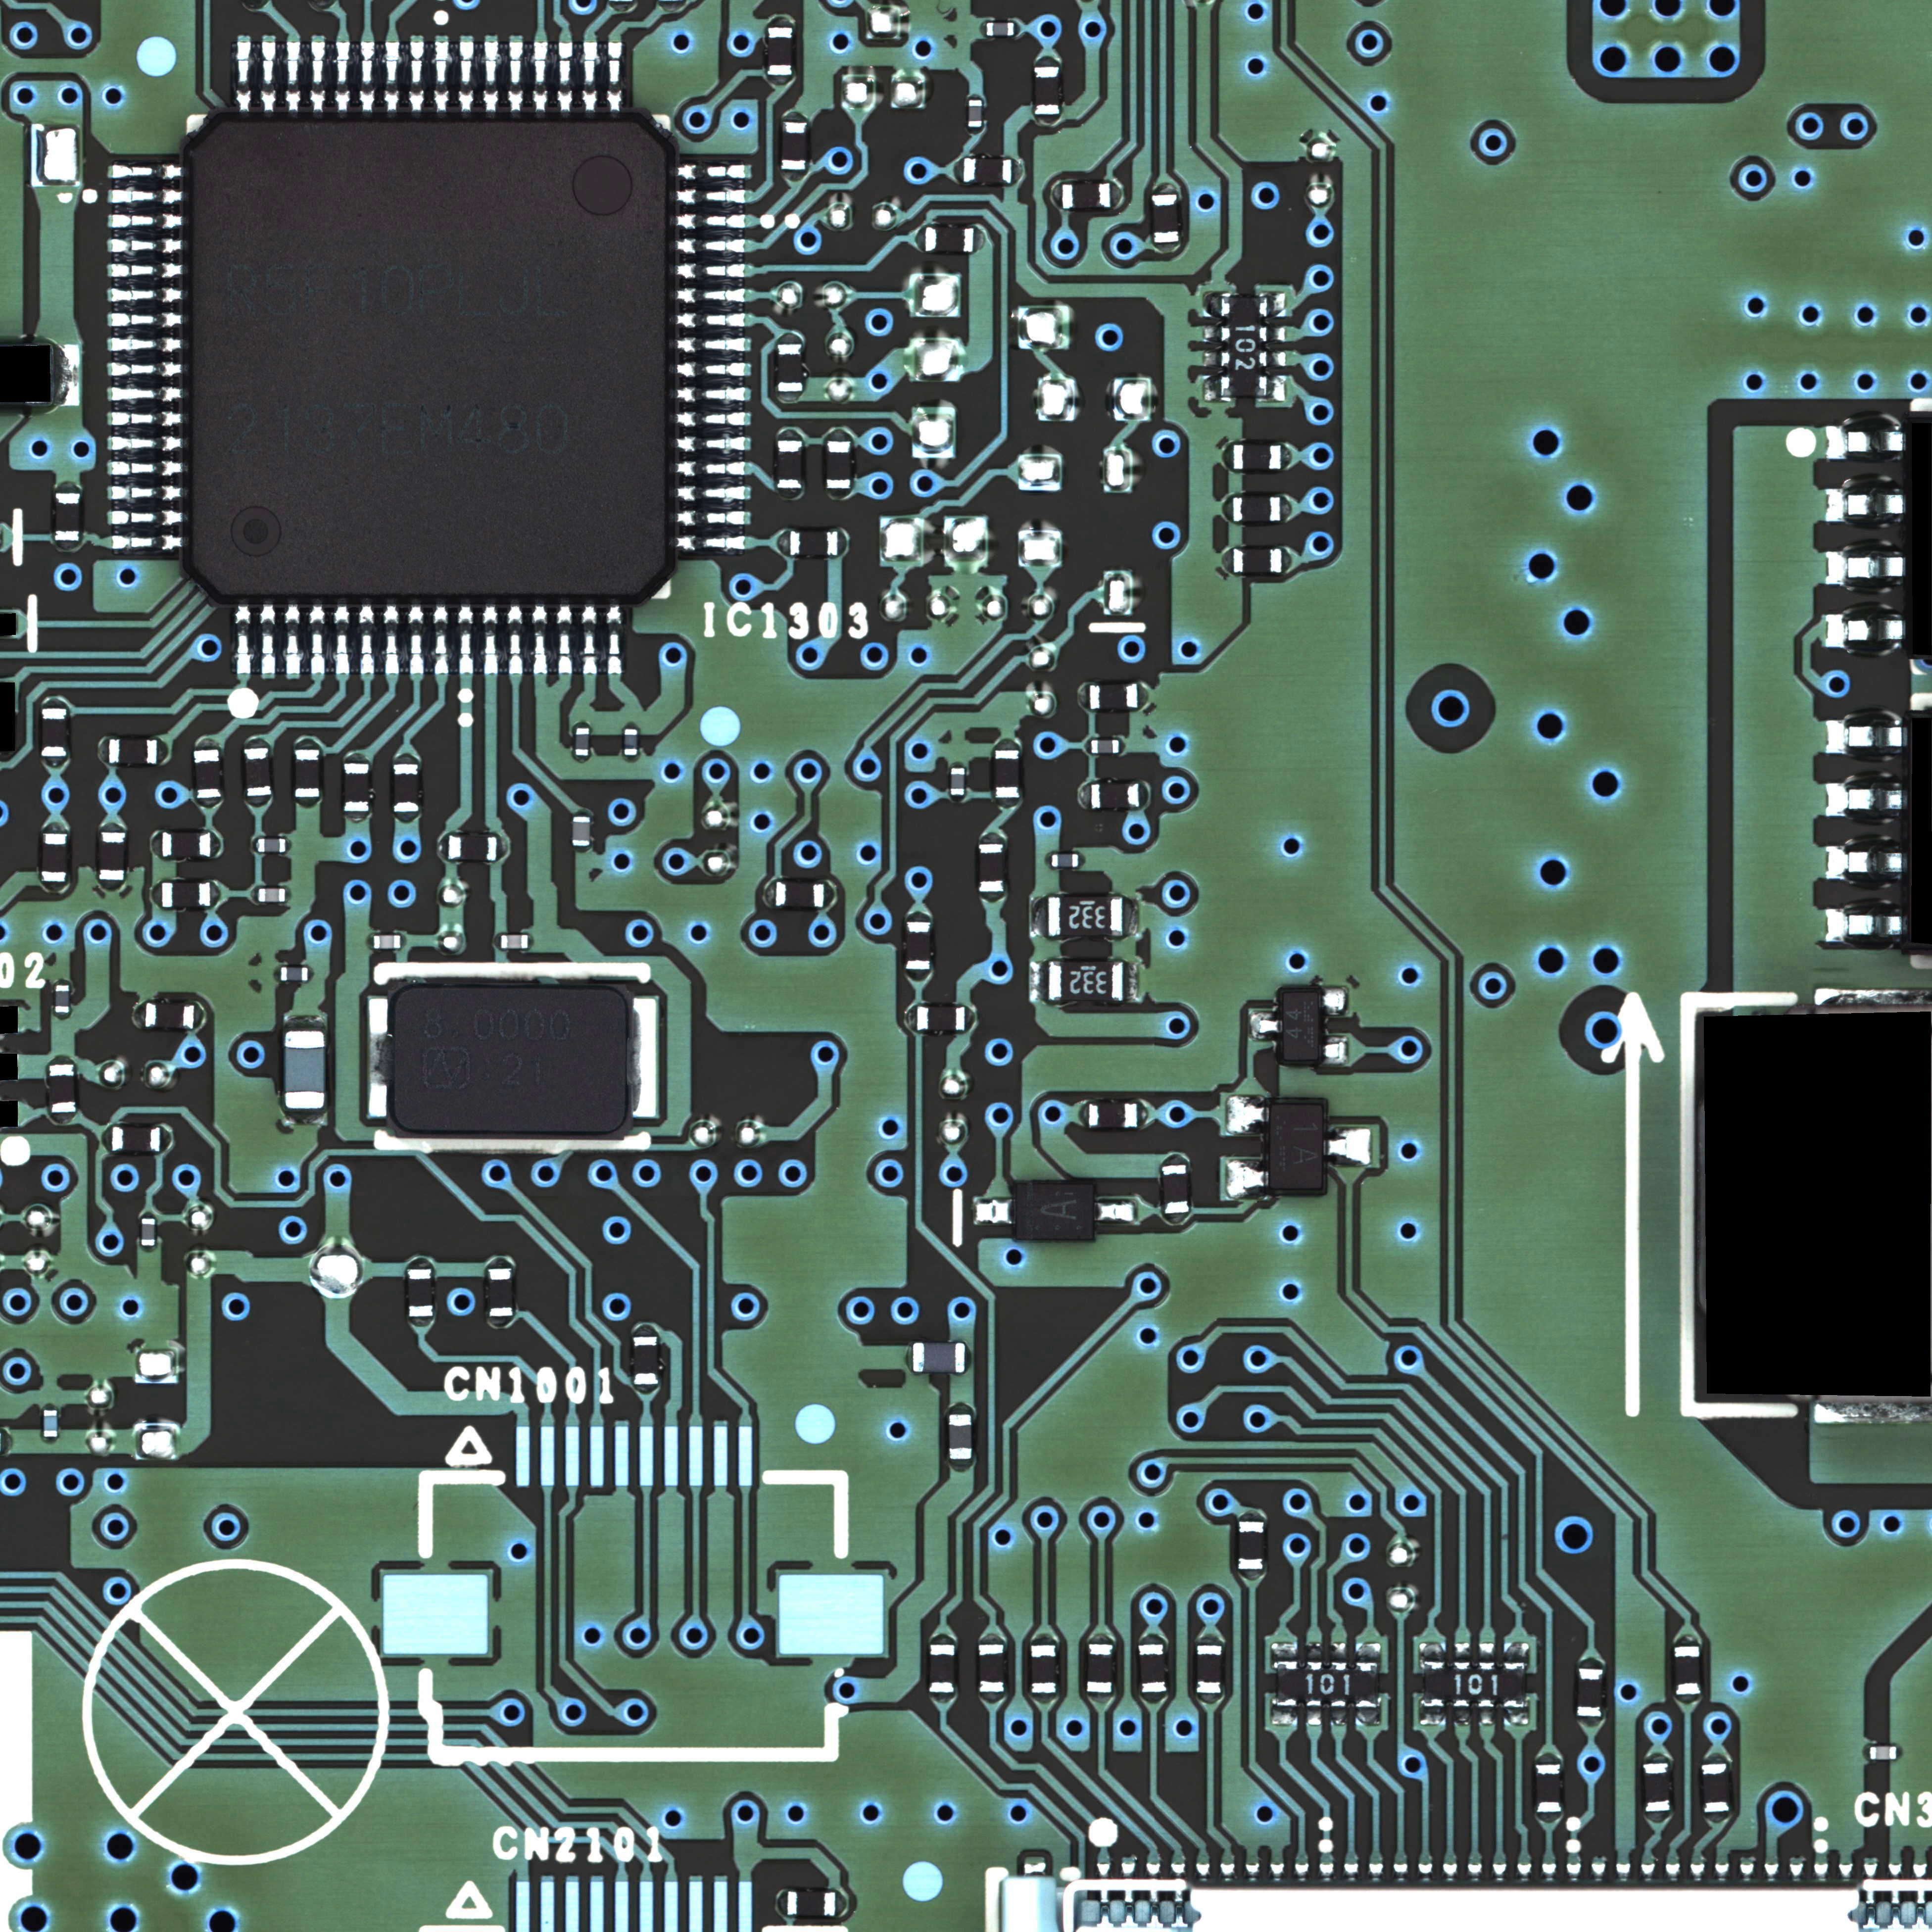Package: (193, 120, 671, 596), (387, 984, 633, 1141), (1277, 1661, 1378, 1707), (1424, 1661, 1525, 1707), (1016, 1182, 1093, 1240), (1270, 1104, 1323, 1189), (1223, 297, 1267, 398), (285, 1030, 324, 1109), (1049, 961, 1123, 1001), (1047, 897, 1123, 936), (1283, 993, 1318, 1062), (913, 1343, 964, 1373), (242, 748, 272, 796), (1138, 1644, 1168, 1691), (48, 1063, 76, 1113), (1161, 1164, 1189, 1214), (97, 832, 126, 881), (145, 1001, 195, 1030), (193, 748, 221, 798), (1086, 1644, 1115, 1693), (1090, 782, 1139, 810), (775, 441, 803, 488), (1152, 195, 1180, 242), (1642, 1764, 1670, 1812), (766, 27, 793, 76), (1674, 1645, 1700, 1695), (1088, 1102, 1138, 1129), (1576, 1668, 1603, 1718), (41, 833, 67, 883), (978, 1644, 1005, 1693), (41, 708, 67, 757), (343, 763, 370, 812), (1536, 1764, 1562, 1813), (775, 881, 824, 908), (1033, 67, 1060, 115), (925, 226, 973, 253), (777, 343, 803, 391), (964, 157, 1012, 184), (407, 1269, 433, 1316), (978, 844, 1005, 892), (780, 122, 807, 170), (487, 1269, 513, 1316), (1702, 1764, 1729, 1812), (929, 1645, 955, 1693), (55, 494, 81, 541), (1196, 1645, 1223, 1693), (994, 750, 1021, 798), (393, 764, 419, 812), (1238, 1522, 1265, 1569), (906, 922, 932, 970), (294, 750, 320, 798), (163, 832, 211, 858), (791, 531, 839, 557), (633, 1336, 658, 1385), (1062, 182, 1111, 207), (1233, 548, 1283, 573), (161, 883, 211, 908), (108, 740, 157, 764), (111, 1127, 161, 1152), (448, 835, 497, 860), (826, 441, 851, 488), (1233, 497, 1281, 522), (1233, 444, 1281, 469), (916, 1007, 964, 1031), (787, 1891, 835, 1916), (1031, 1645, 1056, 1693), (1090, 685, 1138, 709), (948, 1414, 973, 1460), (571, 816, 591, 846), (968, 99, 982, 127), (575, 727, 589, 755), (950, 768, 964, 796), (258, 839, 287, 853), (1092, 740, 1120, 754), (985, 23, 1014, 37), (142, 1219, 156, 1246), (281, 968, 308, 982), (625, 729, 639, 755), (55, 985, 69, 1012), (258, 888, 285, 902), (42, 1410, 57, 1437), (501, 934, 527, 948), (1870, 1746, 1897, 1760), (1051, 855, 1079, 867), (373, 936, 402, 948)
Solder: (1826, 718, 1905, 755), (1828, 550, 1904, 587), (1826, 425, 1905, 460), (1826, 612, 1905, 648), (1826, 488, 1904, 524), (1826, 846, 1904, 881), (633, 998, 656, 1116), (1828, 784, 1904, 817), (1826, 908, 1902, 941), (368, 998, 387, 1118), (1323, 1127, 1371, 1164), (1226, 1095, 1269, 1136), (1224, 1159, 1269, 1198), (55, 343, 80, 405), (310, 37, 327, 113), (432, 39, 449, 113), (407, 603, 425, 678), (533, 39, 550, 113), (382, 603, 400, 678), (582, 39, 600, 113), (110, 435, 184, 453), (110, 361, 184, 379), (674, 410, 748, 428), (110, 410, 184, 428), (285, 39, 303, 113), (235, 37, 253, 111), (110, 508, 184, 525), (110, 311, 184, 329), (110, 336, 184, 354), (432, 603, 449, 676), (508, 41, 525, 113), (456, 39, 474, 111), (456, 603, 474, 676), (308, 603, 326, 676), (580, 603, 598, 676), (285, 603, 303, 676), (531, 603, 548, 676), (407, 41, 425, 111), (481, 605, 499, 676), (234, 605, 251, 676), (108, 460, 184, 476), (110, 262, 186, 278), (260, 37, 276, 113), (108, 239, 184, 255), (483, 39, 499, 113), (110, 485, 184, 501), (334, 39, 350, 113), (359, 603, 375, 678), (674, 387, 748, 403), (110, 288, 184, 304), (110, 214, 184, 230), (110, 189, 184, 205), (110, 165, 184, 180), (384, 39, 400, 111), (557, 39, 573, 111), (556, 603, 571, 676), (506, 603, 522, 676), (674, 338, 747, 354), (676, 487, 748, 502), (676, 511, 748, 527), (260, 603, 276, 676), (674, 288, 747, 304), (676, 189, 748, 205), (676, 214, 748, 230), (110, 534, 182, 550), (676, 165, 748, 180), (676, 536, 748, 552), (607, 41, 623, 111), (607, 605, 623, 676), (359, 41, 375, 111), (334, 605, 350, 676), (676, 462, 747, 478), (676, 264, 747, 280), (676, 313, 747, 329), (676, 239, 747, 255), (1093, 1200, 1138, 1224), (975, 1198, 1016, 1224), (108, 387, 184, 402), (674, 363, 747, 377), (676, 437, 747, 451), (1249, 1012, 1283, 1040), (1028, 895, 1047, 939), (1030, 959, 1047, 1003), (1322, 1037, 1348, 1065), (283, 1108, 326, 1123), (1123, 895, 1139, 938), (1323, 987, 1346, 1016), (1123, 961, 1139, 1001), (1270, 1642, 1299, 1661), (1419, 1642, 1447, 1661), (283, 1017, 326, 1030), (1355, 1707, 1382, 1727), (1355, 1642, 1382, 1661), (1272, 1707, 1299, 1727), (1502, 1642, 1529, 1661), (1267, 292, 1286, 318), (1267, 375, 1286, 402), (1203, 292, 1223, 318), (1419, 1707, 1445, 1725), (1504, 1707, 1529, 1725), (1205, 379, 1223, 402), (1219, 442, 1233, 471), (487, 1256, 515, 1270), (1477, 1707, 1497, 1727), (1201, 350, 1223, 368), (497, 833, 510, 863), (48, 1113, 78, 1125), (161, 1125, 173, 1154), (1111, 180, 1123, 209), (763, 881, 777, 906), (775, 331, 803, 343), (780, 170, 809, 182), (978, 1693, 1007, 1706), (1238, 1569, 1267, 1582), (1012, 157, 1024, 186), (1033, 115, 1062, 127), (99, 1125, 111, 1154), (1152, 182, 1180, 195), (948, 1460, 973, 1474), (1330, 1642, 1348, 1661), (1306, 1642, 1323, 1661), (1330, 1707, 1348, 1727), (1477, 1642, 1495, 1661), (1453, 1642, 1470, 1661), (1267, 350, 1286, 368), (37, 883, 69, 893), (157, 738, 170, 764), (1077, 683, 1090, 709), (835, 1891, 847, 1918), (777, 428, 803, 441), (777, 488, 803, 501), (826, 488, 853, 501), (777, 531, 789, 557), (929, 1633, 955, 1645), (1031, 1631, 1058, 1644), (1238, 1509, 1265, 1522), (1281, 495, 1293, 522), (913, 226, 925, 253), (96, 738, 108, 764), (42, 757, 69, 770), (42, 821, 69, 833), (244, 796, 271, 809), (393, 752, 419, 764), (393, 812, 419, 824), (343, 812, 370, 824), (1077, 784, 1090, 810), (994, 738, 1021, 750), (980, 832, 1007, 844), (0, 1428, 12, 1454), (775, 393, 805, 403), (1138, 1633, 1168, 1644), (1454, 1707, 1470, 1727), (1267, 327, 1286, 343), (133, 1003, 145, 1028), (1221, 548, 1233, 573), (633, 1323, 658, 1336), (1198, 1693, 1223, 1706), (1578, 1656, 1603, 1668), (906, 970, 931, 982), (1136, 1100, 1146, 1129), (1283, 547, 1293, 575), (195, 1001, 205, 1030), (824, 881, 835, 909), (487, 1316, 515, 1327), (1161, 1154, 1189, 1164), (766, 76, 794, 87), (780, 111, 809, 122), (824, 428, 853, 439), (929, 1693, 957, 1704), (1030, 1695, 1058, 1706), (1086, 1693, 1115, 1704), (1086, 1633, 1115, 1644), (1139, 1693, 1168, 1704), (1221, 495, 1231, 524), (975, 225, 985, 253), (97, 881, 126, 892), (294, 798, 322, 809), (1152, 242, 1180, 253), (1644, 1812, 1672, 1822), (658, 2, 686, 12), (1051, 182, 1062, 209), (1138, 683, 1148, 709), (1281, 444, 1292, 471), (211, 832, 221, 858), (766, 16, 793, 27), (632, 1385, 658, 1396), (980, 1633, 1007, 1644), (1196, 1635, 1223, 1645), (1203, 326, 1221, 341), (42, 697, 69, 708), (55, 481, 81, 492), (1578, 1718, 1605, 1729), (1536, 1813, 1562, 1824), (1536, 1753, 1562, 1764), (211, 881, 221, 908), (294, 738, 320, 748), (150, 832, 161, 858), (1162, 1214, 1189, 1224), (1704, 1813, 1730, 1824), (1674, 1635, 1700, 1645), (994, 798, 1021, 809), (978, 892, 1005, 902), (906, 1005, 916, 1031), (1307, 1707, 1322, 1727), (1139, 784, 1150, 809), (409, 1316, 433, 1327), (777, 1891, 787, 1916), (196, 738, 221, 748), (246, 738, 271, 748), (906, 911, 931, 922), (948, 1403, 973, 1414), (609, 2, 633, 12), (839, 529, 847, 557), (954, 157, 962, 186), (53, 541, 81, 550), (97, 823, 126, 832), (48, 1054, 76, 1063), (1644, 1753, 1672, 1762), (966, 1007, 975, 1033), (439, 835, 448, 862), (152, 881, 161, 908), (195, 800, 221, 809), (1035, 57, 1060, 65), (345, 754, 370, 763), (1704, 1753, 1729, 1762), (1675, 1695, 1700, 1704), (906, 1343, 913, 1373), (966, 1345, 973, 1373), (272, 964, 281, 984), (966, 127, 984, 136), (1014, 21, 1023, 39), (573, 846, 591, 855), (1044, 851, 1051, 870), (366, 932, 373, 950), (494, 932, 501, 950), (249, 886, 257, 904), (1863, 1744, 1870, 1762), (41, 1403, 58, 1410), (140, 1246, 157, 1253), (53, 1014, 71, 1021), (573, 757, 591, 764), (621, 755, 639, 763), (625, 720, 639, 729), (1120, 738, 1127, 755), (1085, 738, 1092, 755), (978, 21, 985, 37), (402, 934, 409, 950), (529, 934, 536, 950), (308, 966, 315, 982), (287, 837, 294, 853), (1897, 1744, 1904, 1760), (42, 1437, 58, 1444), (55, 978, 71, 985), (1079, 853, 1086, 869), (950, 796, 966, 803), (287, 886, 292, 904), (251, 837, 257, 855), (952, 761, 964, 768), (968, 94, 984, 99), (573, 810, 589, 816), (575, 722, 591, 727), (142, 1212, 156, 1217)
